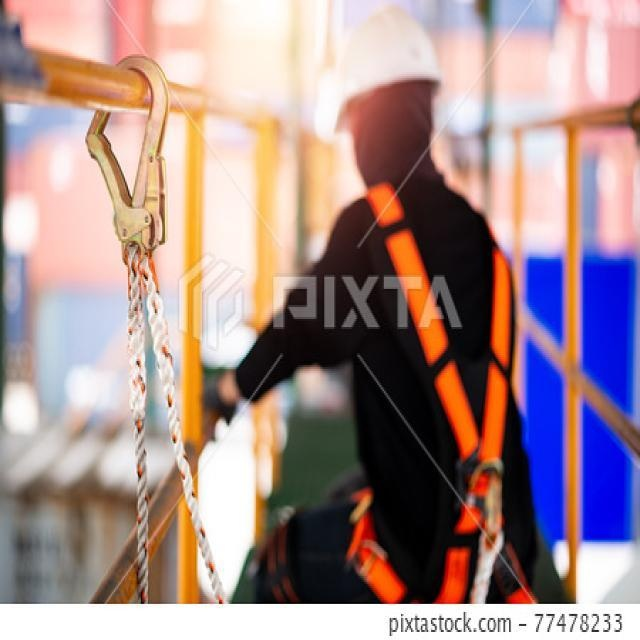Arnes_seguridad: (348, 180, 524, 610)
